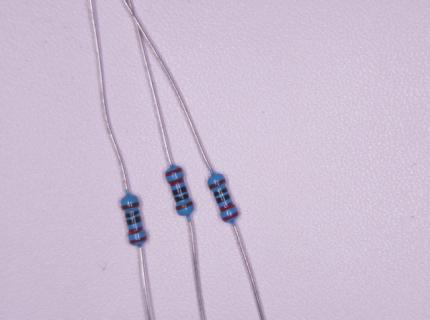Black band: (172, 186, 187, 196), (216, 194, 230, 204), (127, 216, 141, 226), (174, 193, 189, 202), (213, 188, 227, 196), (126, 210, 139, 218)
Brown band: (209, 178, 225, 190), (176, 201, 193, 210), (122, 202, 139, 210)
Red band: (222, 210, 239, 221), (219, 201, 235, 212), (165, 167, 182, 177), (168, 177, 184, 187), (130, 236, 146, 244), (129, 226, 143, 235)
